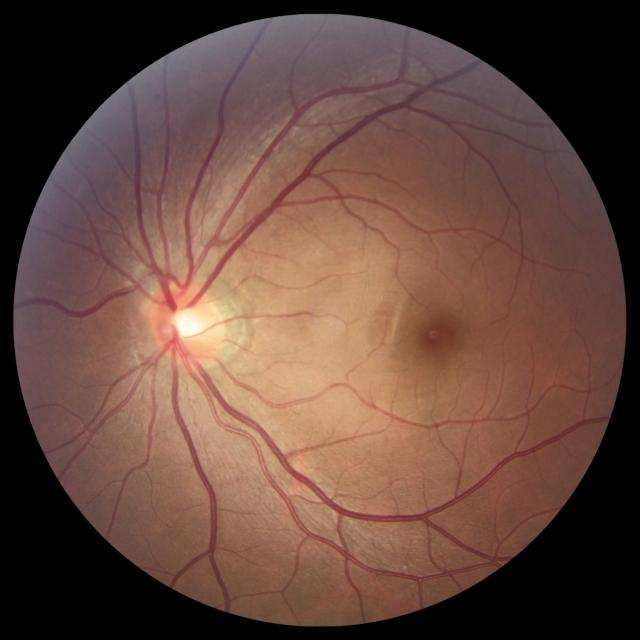OC: (170, 307, 204, 341)
OD: (152, 280, 224, 365)
